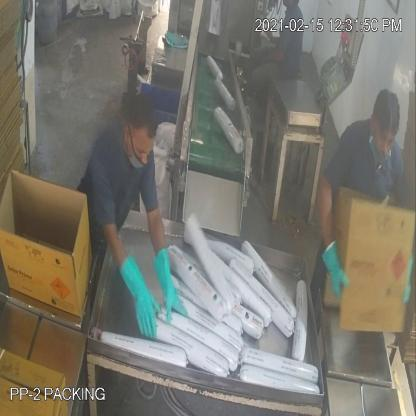glove: (109, 245, 159, 342), (144, 226, 186, 329), (317, 226, 358, 308)
